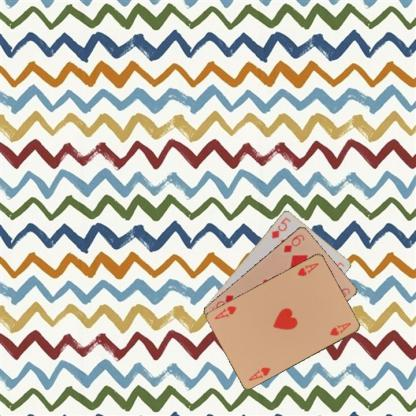5d: (269, 214, 292, 240)
6d: (281, 232, 306, 254)
Ah: (245, 364, 272, 382), (295, 260, 320, 277)
